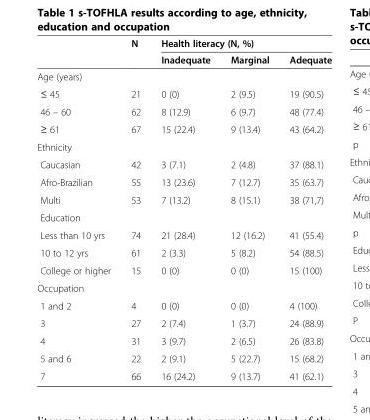table: (36, 37, 331, 381)
table column: (36, 37, 120, 381), (150, 37, 219, 381), (219, 37, 278, 381), (278, 37, 331, 381), (120, 37, 150, 381)
table column header: (36, 37, 331, 67)
table projected row header: (36, 137, 331, 155), (36, 208, 331, 226), (36, 278, 331, 296), (36, 67, 331, 84)
table row: (36, 84, 331, 102), (36, 119, 331, 137), (36, 137, 331, 155), (36, 155, 331, 173), (36, 190, 331, 208), (36, 208, 331, 226), (36, 243, 331, 261), (36, 278, 331, 296), (36, 296, 331, 314), (36, 331, 331, 349), (36, 349, 331, 367), (36, 67, 331, 84), (36, 102, 331, 119), (36, 173, 331, 190), (36, 226, 331, 243), (36, 261, 331, 278), (36, 314, 331, 331), (36, 51, 331, 67), (36, 37, 331, 51), (36, 367, 331, 381)
table spanning cell: (150, 37, 331, 51), (120, 37, 150, 67)
